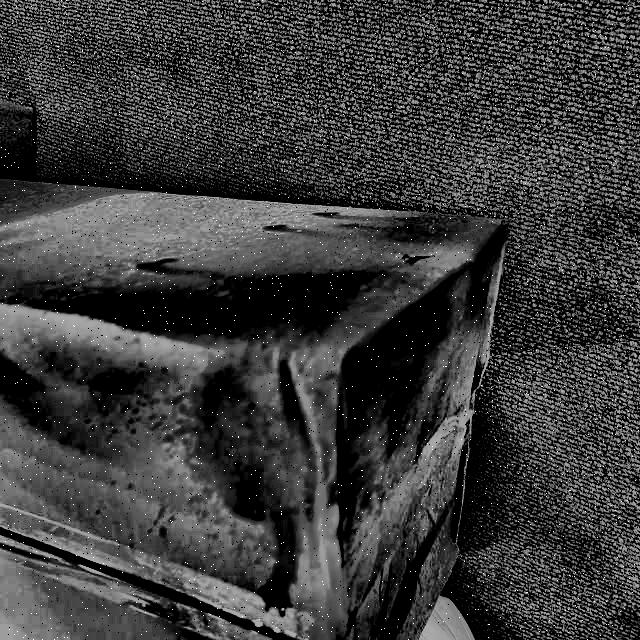box: (0, 175, 520, 639)
wet: (95, 210, 507, 530)
